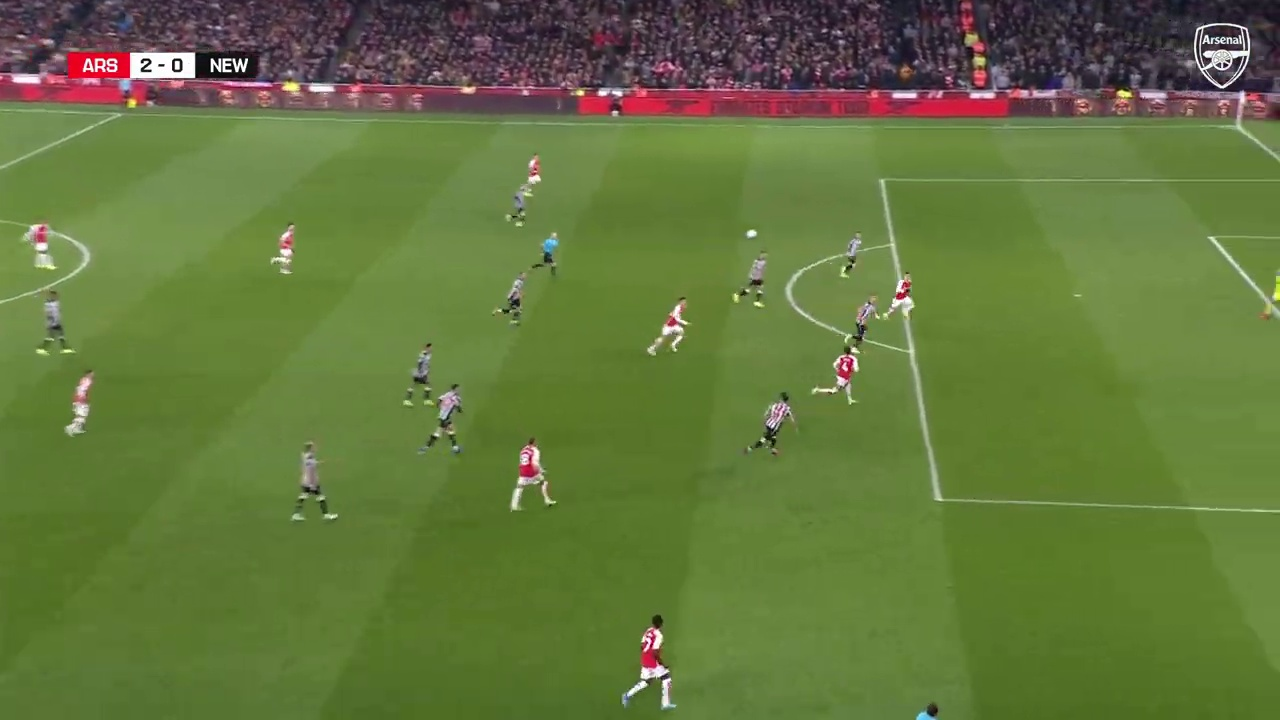ball: (748, 284, 763, 301)
